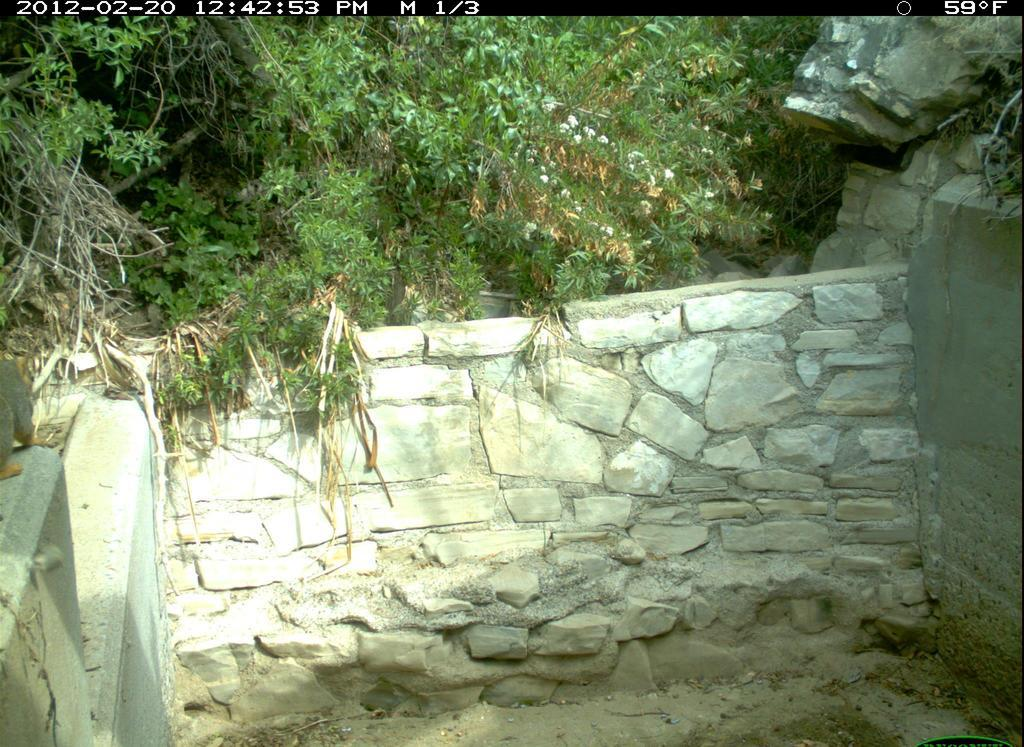squirrel: (2, 337, 56, 481)
